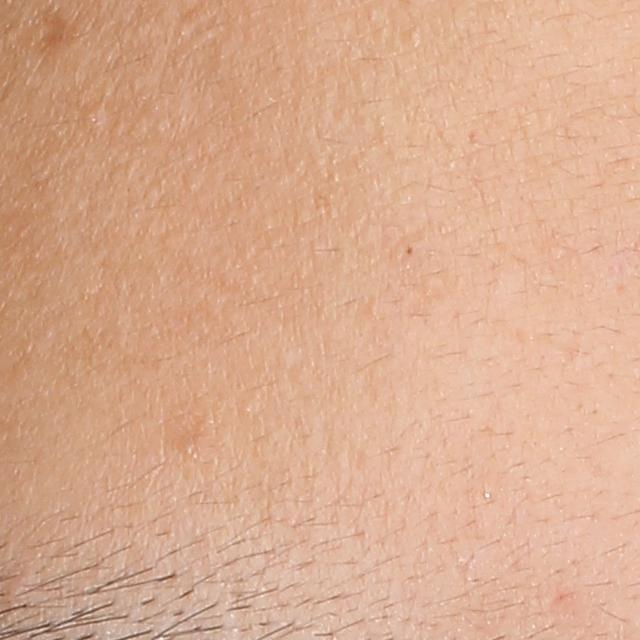comedo: (83, 104, 109, 130)
